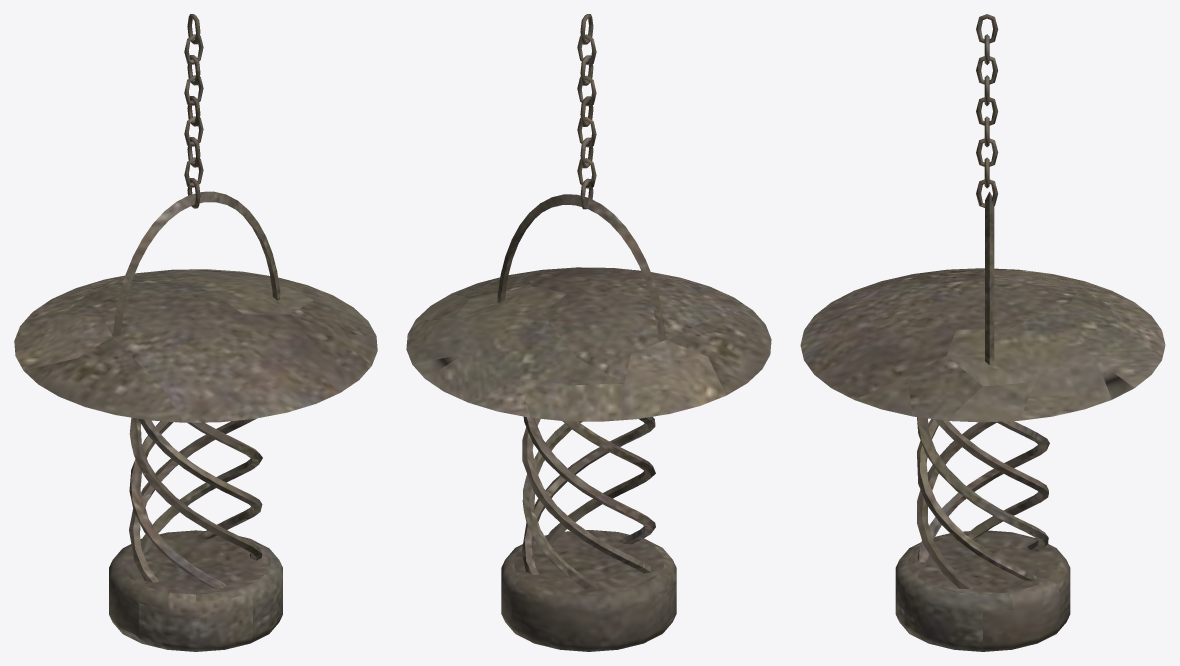
The model's file is lamp3.FBX.
The picture shows the model from 3 angles, left to right: view 1: azimuth 30°, elevation 25°; view 2: azimuth 150°, elevation 25°; view 3: azimuth 270°, elevation 25°; orthographic projection.
Parts seen in each view (by area): view 1: lamp3; view 2: lamp3; view 3: lamp3.
Part boxes in pixels (bbox=[...]): lamp3: bbox=[14, 14, 377, 651]; lamp3: bbox=[406, 14, 771, 651]; lamp3: bbox=[800, 14, 1165, 651].
Size of the model in its own units: 47.53 by 86.99 by 47.53.
